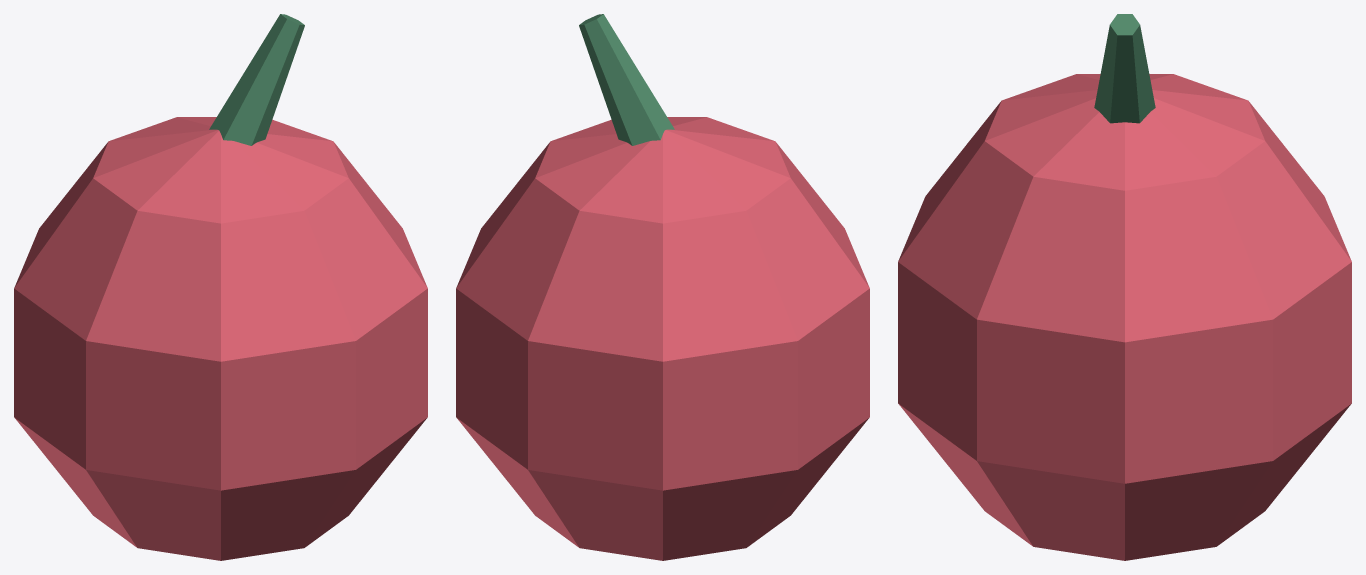
Rendered from berry.obj.
3 renders of one model, left to right at view 1: azimuth 30°, elevation 25°; view 2: azimuth 150°, elevation 25°; view 3: azimuth 270°, elevation 25°, orthographic. The views are drawn at different scales.
Parts seen in each view (by area): view 1: berry; view 2: berry; view 3: berry.
Boxes of the visible parts, box(x1,y1,x2,y2) form: berry: box(14, 14, 427, 560); berry: box(456, 14, 869, 560); berry: box(898, 14, 1351, 560).
Size of the model in its own units: 0.4427 by 0.6164 by 0.4496.
